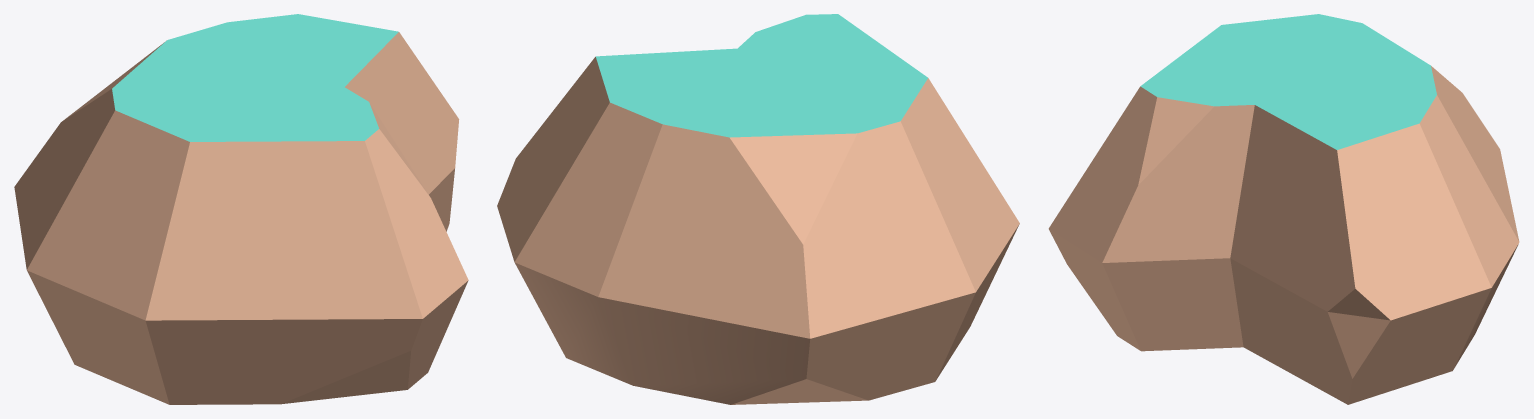
File: rock-larged.glb
3 renders of one model, left to right at view 1: azimuth 30°, elevation 25°; view 2: azimuth 150°, elevation 25°; view 3: azimuth 270°, elevation 25°, orthographic. The views are drawn at different scales.
Parts seen in each view (by area): view 1: rock_largeD; view 2: rock_largeD; view 3: rock_largeD.
Boxes of the visible parts, <box> form: rock_largeD: <box>14,14,468,404</box>; rock_largeD: <box>497,14,1019,404</box>; rock_largeD: <box>1048,14,1519,404</box>.
Bounding box in the file's own units: 1.07 × 0.5683 × 1.03.
